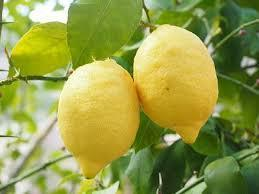lemon: (132, 23, 219, 145), (58, 58, 141, 180)
